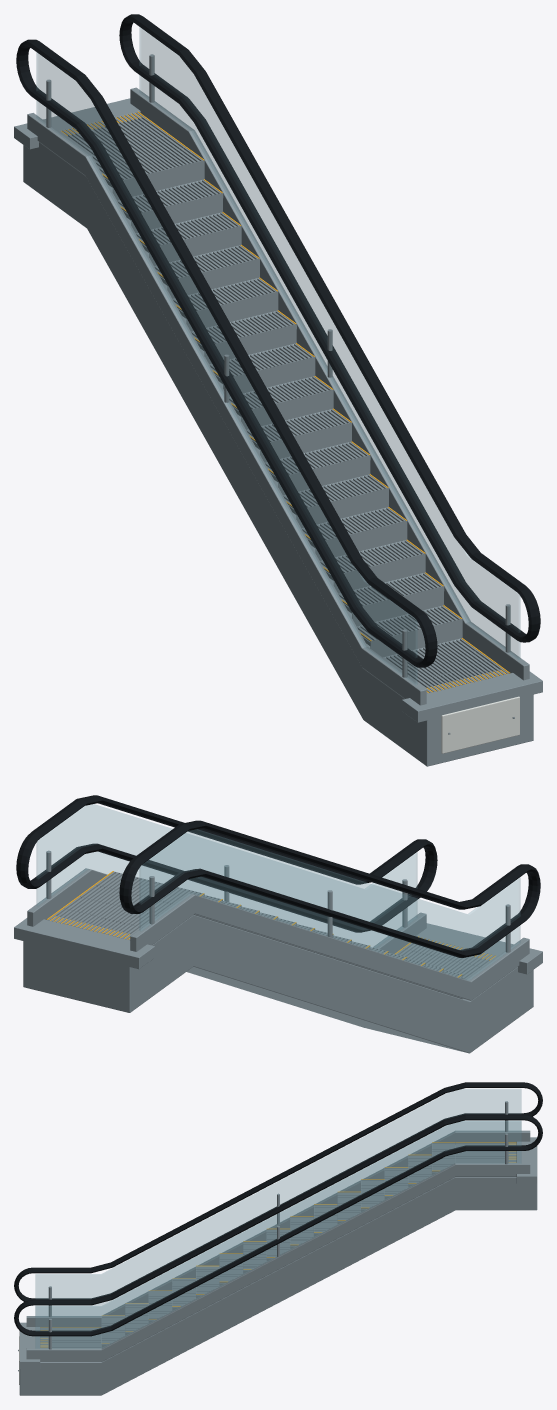
3 renders of one model, top to bottom at view 1: azimuth 30°, elevation 25°; view 2: azimuth 150°, elevation 25°; view 3: azimuth 270°, elevation 25°, orthographic. The views are drawn at different scales.
Parts seen in each view (by area): view 1: RETURN_TrussEnclosure, GUARD_R, GUARD_L, HANDRAIL_L, HANDRAIL_R, SKIRT_L, SKIRT_R, LANDING_Lower, MAINTENANCE_Panel, STEP_15_Tread, STEP_16_Tread, STEP_05_Tread (+34 smaller); view 2: RETURN_TrussEnclosure, GUARD_L, GUARD_R, HANDRAIL_L, SKIRT_L, HANDRAIL_R, LANDING_Upper, SKIRT_R, LANDING_Lower, STEP_20_Tread, STEP_19_Tread, STEP_17_Tread (+3 smaller); view 3: GUARD_R, RETURN_TrussEnclosure, GUARD_L, SKIRT_R, HANDRAIL_R, HANDRAIL_L, SKIRT_L, LANDING_Upper, LANDING_Lower, STEP_06_Tread, STEP_09_Tread, STEP_04_Tread (+12 smaller).
Boxes of the visible parts, x1,y1,x2,y2 form: RETURN_TrussEnclosure: (23, 142, 533, 766); GUARD_R: (139, 27, 520, 659); GUARD_L: (36, 53, 417, 684); HANDRAIL_L: (16, 39, 437, 667); HANDRAIL_R: (119, 14, 540, 642); SKIRT_L: (27, 113, 426, 705); SKIRT_R: (130, 87, 529, 680); LANDING_Lower: (402, 671, 542, 722); MAINTENANCE_Panel: (441, 696, 519, 753); STEP_15_Tread: (136, 212, 241, 253); STEP_16_Tread: (117, 180, 223, 220); STEP_05_Tread: (320, 540, 425, 580); RETURN_TrussEnclosure: (23, 915, 533, 1053); GUARD_L: (139, 829, 520, 980); GUARD_R: (36, 804, 417, 947); HANDRAIL_L: (119, 820, 540, 957); SKIRT_L: (130, 893, 529, 1000); HANDRAIL_R: (16, 795, 437, 932); LANDING_Upper: (14, 918, 154, 969); SKIRT_R: (27, 868, 426, 953); LANDING_Lower: (416, 923, 542, 974); STEP_20_Tread: (48, 908, 141, 939); STEP_19_Tread: (64, 896, 157, 927); STEP_17_Tread: (96, 871, 204, 904); GUARD_R: (35, 1121, 521, 1348); RETURN_TrussEnclosure: (19, 1145, 537, 1395); GUARD_L: (35, 1089, 521, 1316); SKIRT_R: (26, 1163, 530, 1361); HANDRAIL_R: (14, 1114, 542, 1336); HANDRAIL_L: (14, 1082, 542, 1301); SKIRT_L: (26, 1130, 530, 1327); LANDING_Upper: (516, 1137, 537, 1183); LANDING_Lower: (19, 1322, 40, 1368); STEP_06_Tread: (172, 1278, 195, 1310); STEP_09_Tread: (243, 1241, 266, 1272); STEP_04_Tread: (125, 1303, 148, 1334).
Bounding box in the file's own units: 1.36 × 4.53 × 7.77.
